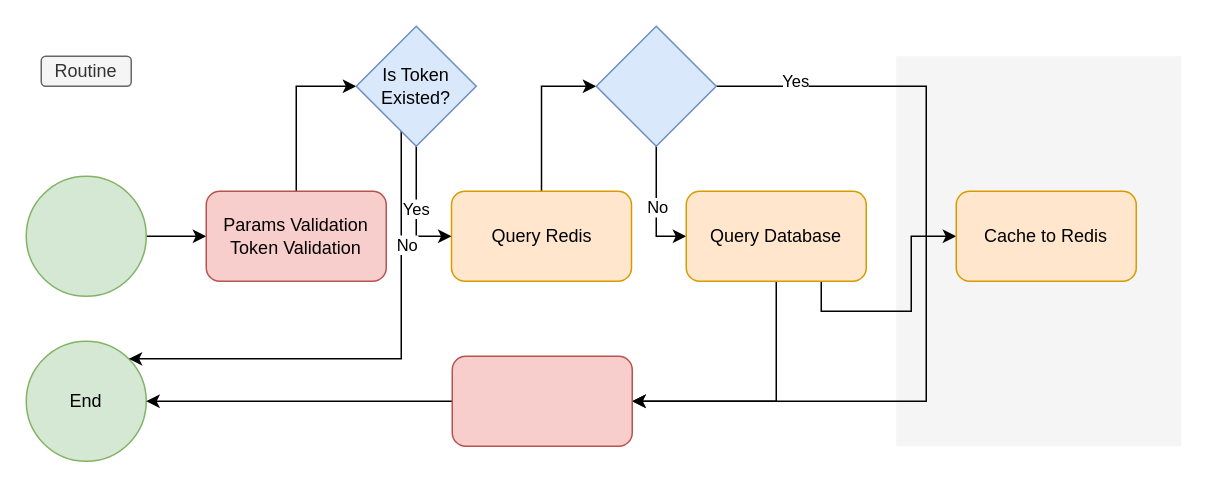
Image size: 1208x488. Some labels were removed from this diagram. Here are the shapes that lost their labels. From the top down, the centre of each, then its label:
At (655,85): "Cached?".
At (85,235): "Start".
At (541,400): "Return Data".
